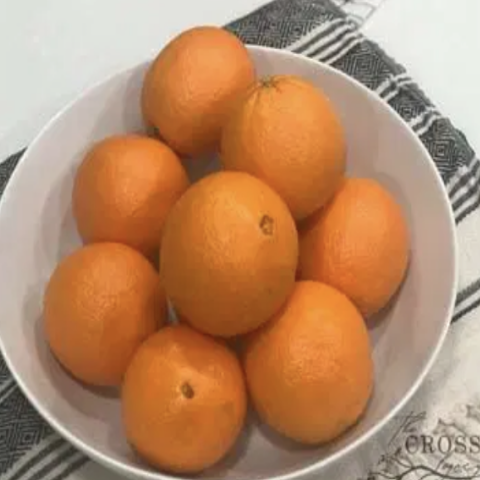orange: (155, 167, 304, 335), (272, 160, 434, 309), (237, 272, 374, 446), (114, 307, 247, 476), (22, 236, 171, 384), (136, 19, 264, 150)
